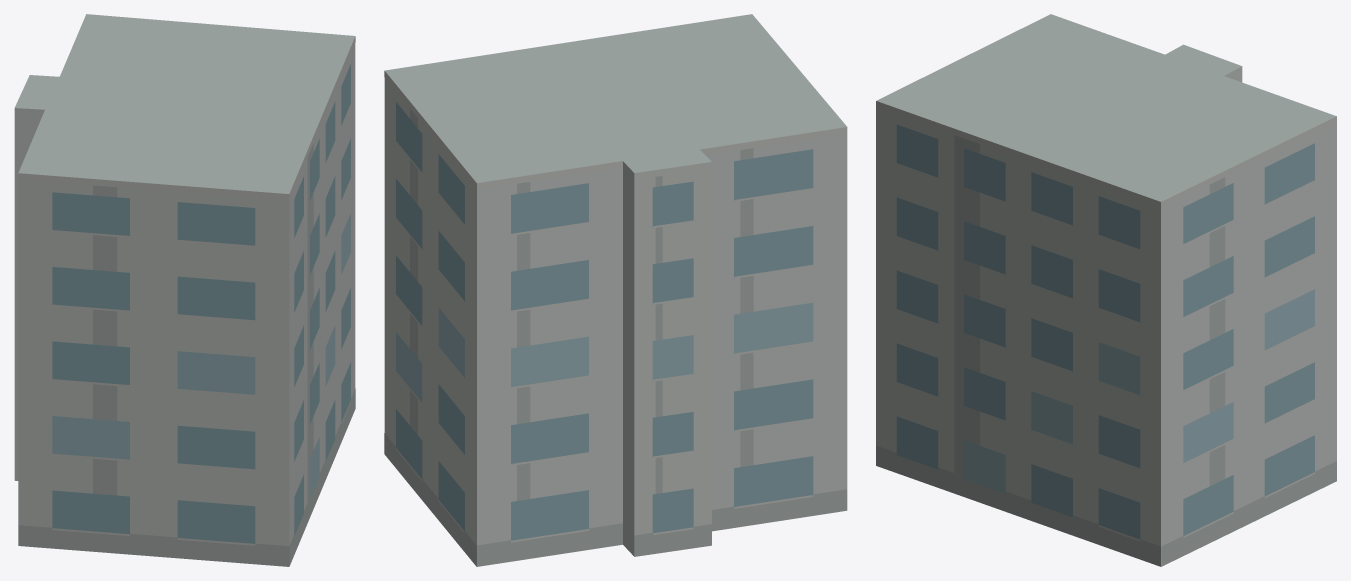
File: survey-upis-32905423.glb
The picture shows the model from 3 angles, left to right: view 1: azimuth 30°, elevation 25°; view 2: azimuth 150°, elevation 25°; view 3: azimuth 270°, elevation 25°; orthographic projection. The views are drawn at different scales.
Visible parts, largest first — view 1: survey-upis-32905423.tmp; view 2: survey-upis-32905423.tmp; view 3: survey-upis-32905423.tmp.
Boxes of the visible parts, left/top/right/bottom form: survey-upis-32905423.tmp: left=14, top=14, right=355, bottom=566; survey-upis-32905423.tmp: left=384, top=14, right=847, bottom=566; survey-upis-32905423.tmp: left=876, top=14, right=1336, bottom=566.
Bounding box in the file's own units: 15.36 × 13.9 × 15.91.
